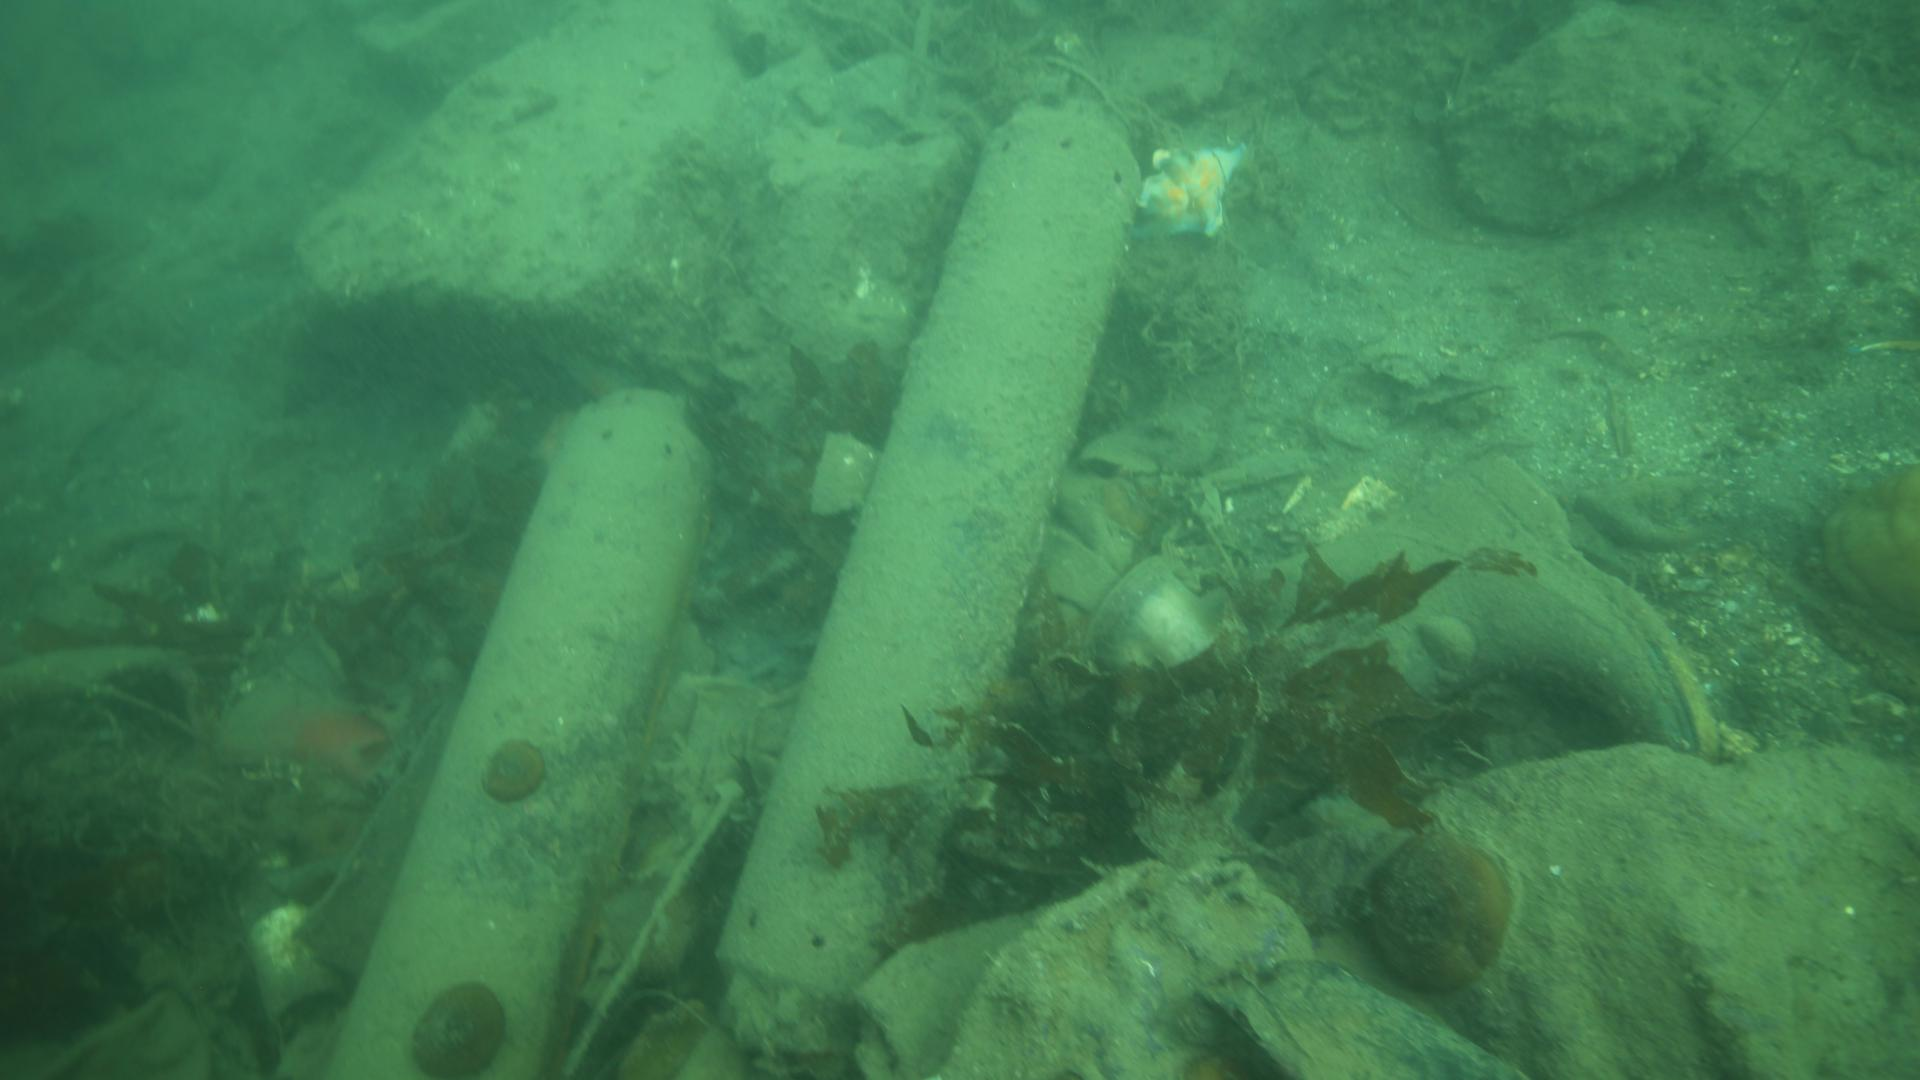eel fish trap: (712, 92, 1149, 1058), (323, 385, 712, 1080)
